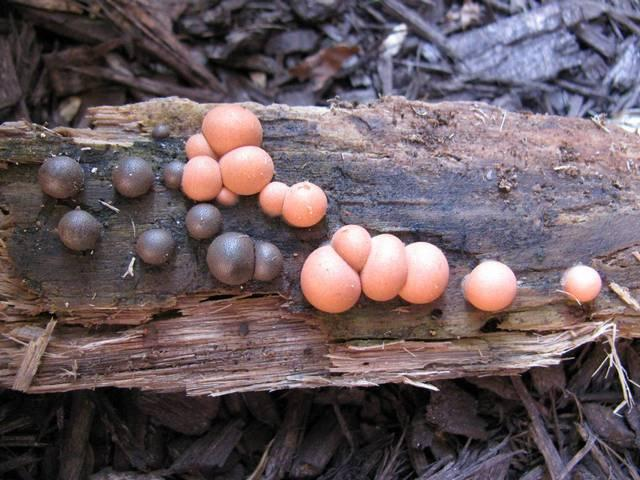Non-edible Mushroom: (36, 101, 603, 318), (299, 223, 449, 314), (299, 244, 361, 313), (200, 103, 263, 156), (360, 232, 407, 302), (398, 240, 449, 304), (461, 259, 517, 312), (219, 144, 274, 196), (205, 230, 255, 285), (36, 153, 84, 200), (281, 180, 328, 228), (56, 206, 102, 254), (180, 154, 221, 201), (110, 155, 154, 198), (560, 263, 602, 304), (133, 227, 175, 266), (184, 202, 223, 239), (253, 239, 283, 282)
